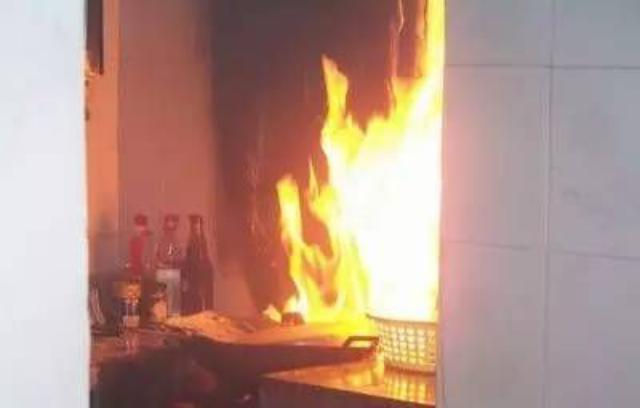fire: (322, 122, 438, 242), (287, 241, 368, 329), (357, 245, 441, 321), (390, 67, 442, 123), (272, 174, 304, 250), (318, 60, 348, 116), (418, 0, 442, 70)
